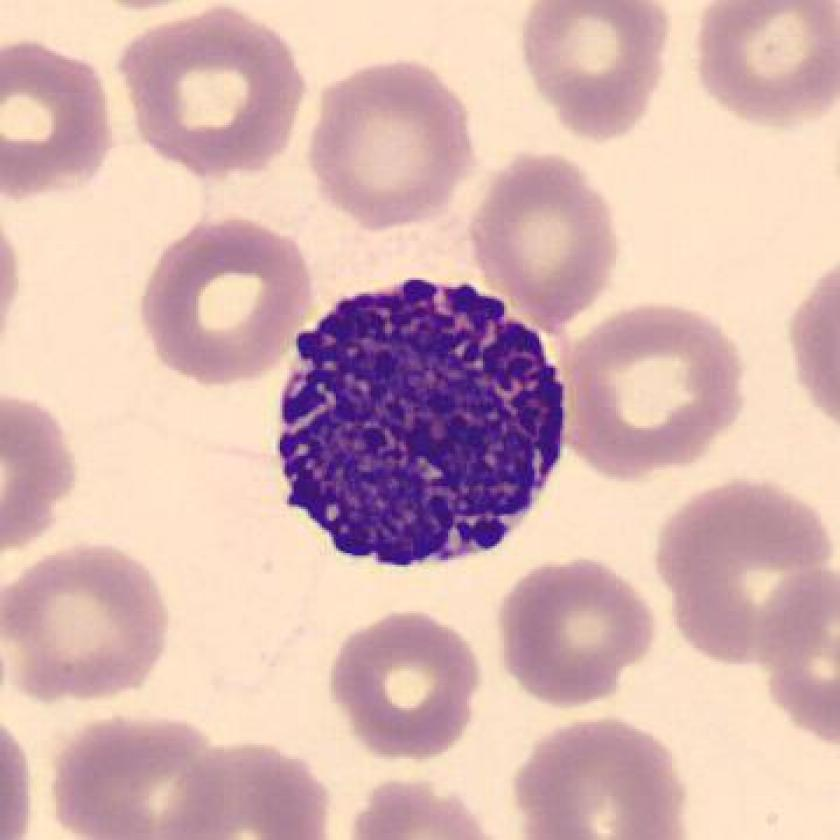basophil: (281, 274, 580, 566)
